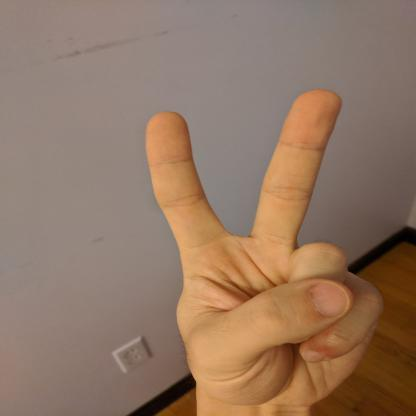V: (138, 86, 389, 415)
